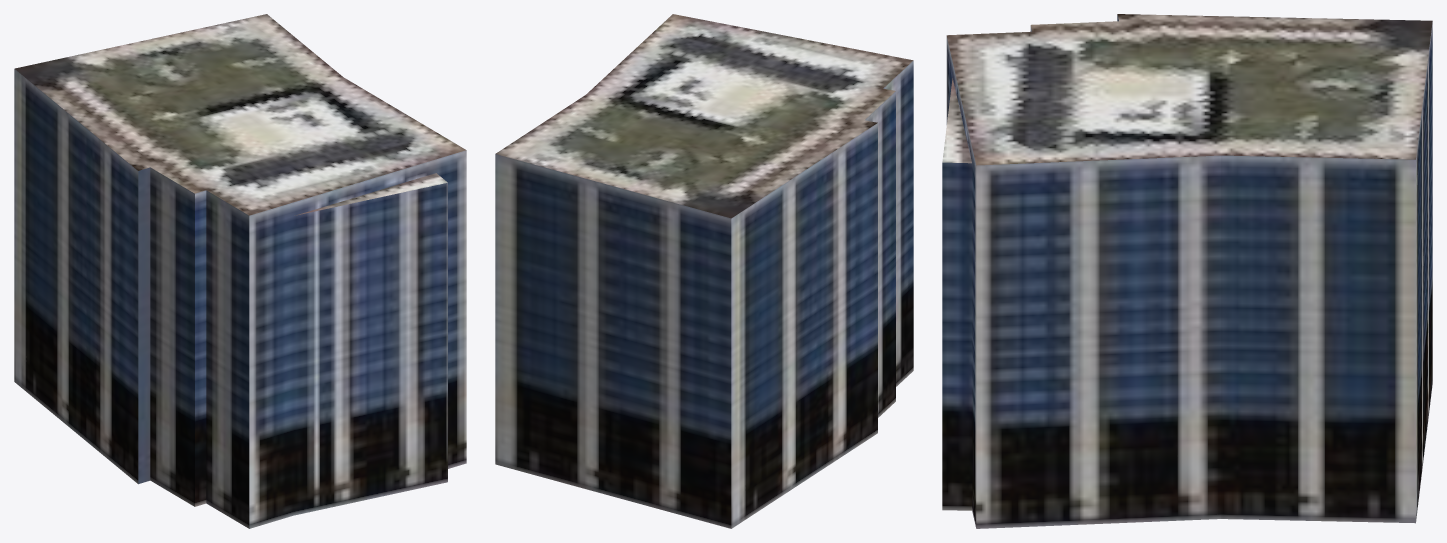
3 renders of one model, left to right at view 1: azimuth 30°, elevation 25°; view 2: azimuth 150°, elevation 25°; view 3: azimuth 270°, elevation 25°, orthographic. The views are drawn at different scales.
Parts seen in each view (by area): view 1: b153; view 2: b153; view 3: b153.
Boxes of the visible parts, x1,y1,x2,y2 form: b153: (14, 14, 466, 528); b153: (495, 14, 913, 528); b153: (942, 14, 1432, 528).
Size of the model in its own units: 24.11 by 26.97 by 32.97.
Materials: 1 (1 with a texture image).
